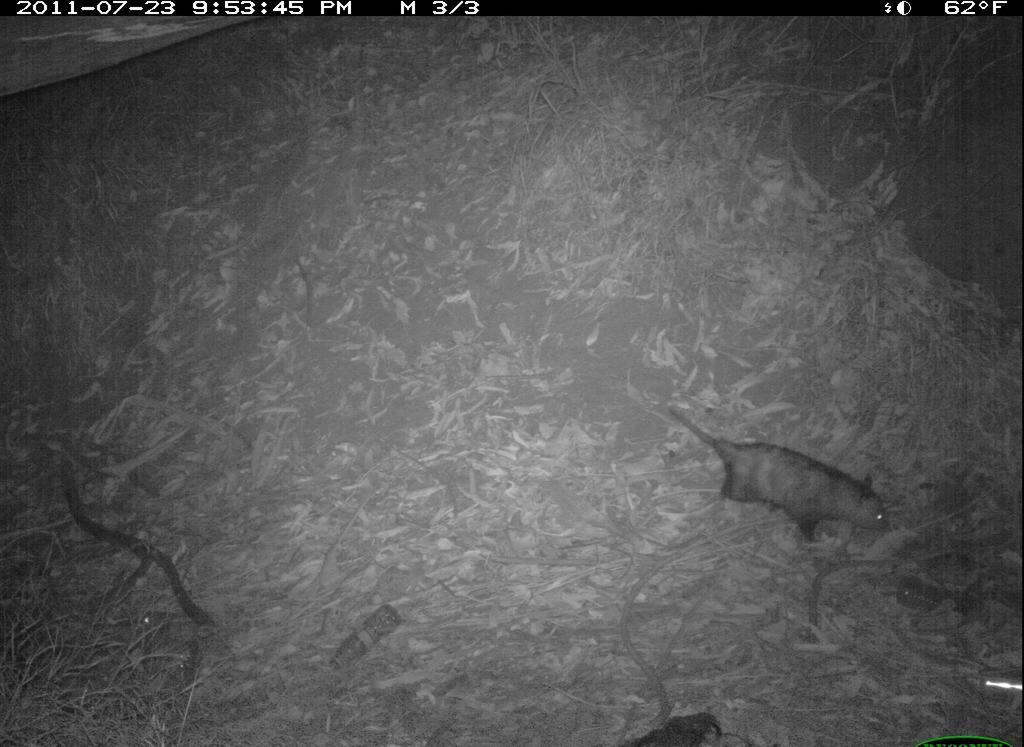opossum: (658, 388, 900, 547)
